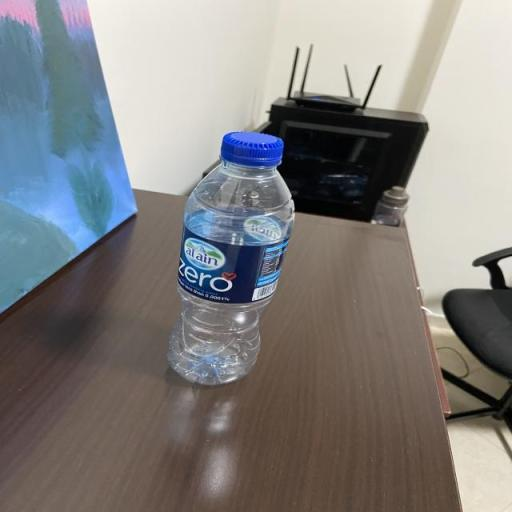plastic: (166, 132, 296, 388)
